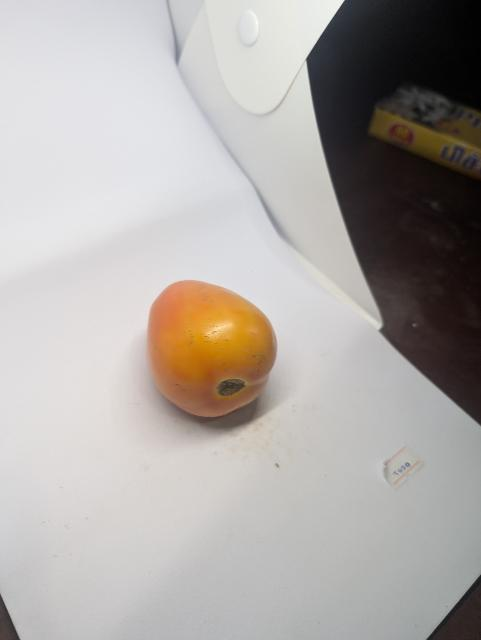turning: (142, 274, 296, 427)
